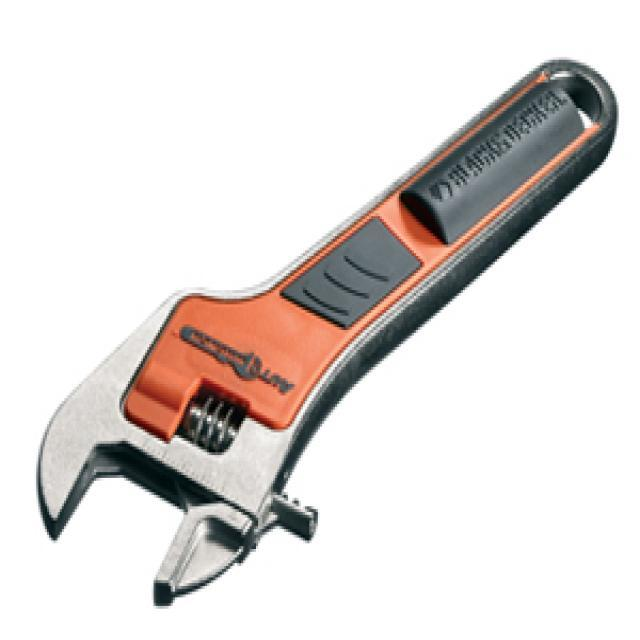wrench: (31, 49, 624, 614)
